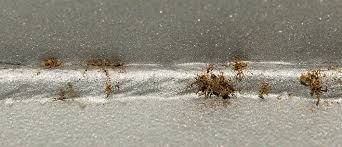rust: (191, 66, 233, 105), (295, 65, 330, 101), (81, 58, 134, 69), (225, 55, 246, 79), (56, 84, 79, 102), (40, 58, 65, 71), (260, 79, 271, 101)
